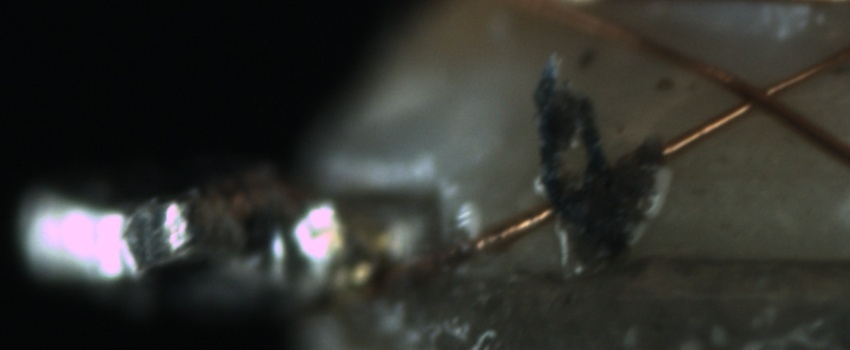CL: (720, 67, 795, 125)
